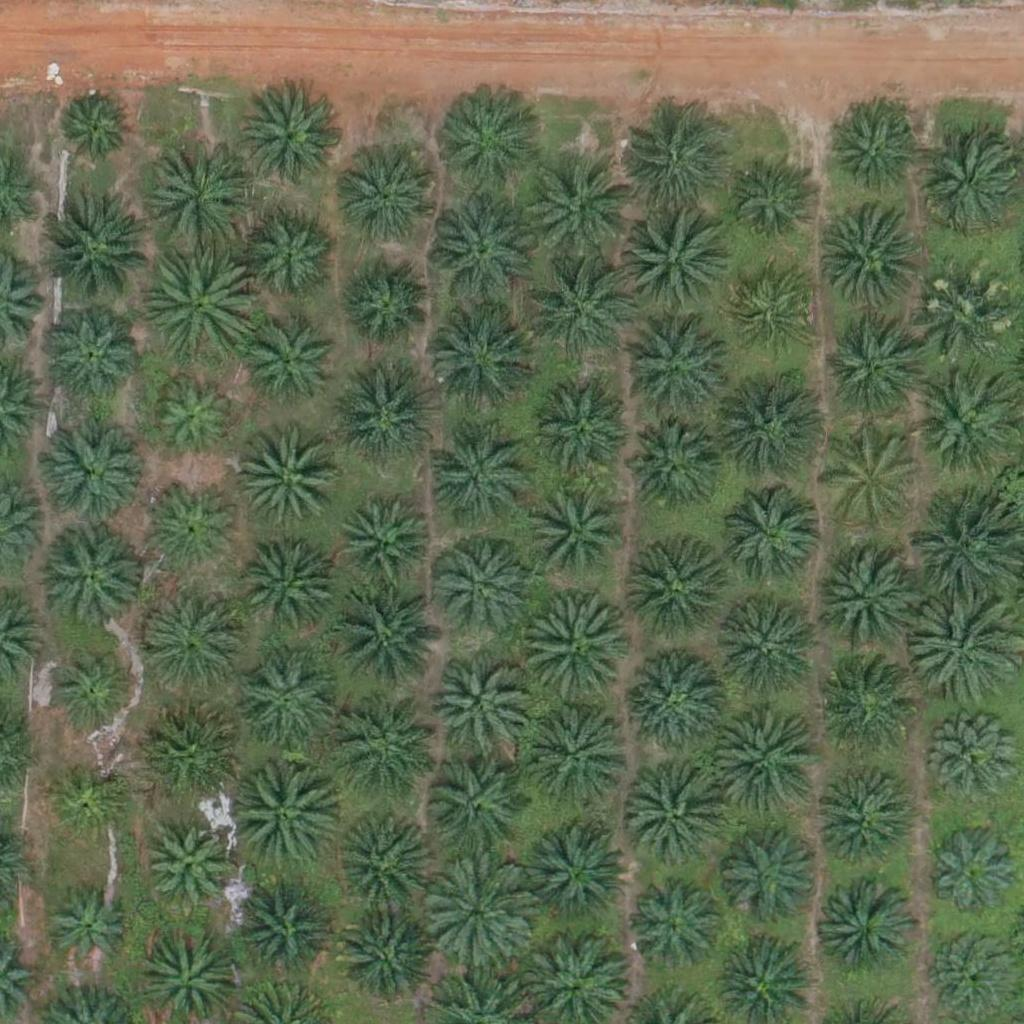Kelapa_Sawit: (38, 200, 151, 314), (420, 299, 533, 413), (148, 149, 261, 262), (220, 756, 333, 869), (419, 194, 532, 307), (519, 594, 632, 707), (521, 149, 634, 262), (615, 205, 728, 318), (711, 701, 824, 814), (148, 252, 260, 366), (427, 411, 539, 525), (717, 591, 829, 705), (910, 590, 1022, 704), (910, 498, 1022, 612), (140, 583, 252, 696), (329, 583, 441, 696), (433, 85, 545, 198), (420, 855, 532, 968), (521, 698, 633, 811), (524, 253, 636, 366), (614, 112, 726, 225), (721, 373, 833, 486), (820, 540, 932, 653), (40, 526, 140, 627), (152, 702, 252, 803), (240, 92, 340, 193), (235, 437, 335, 538), (234, 649, 334, 750), (225, 878, 325, 979), (328, 809, 428, 910), (338, 709, 438, 810), (334, 364, 434, 465), (338, 143, 438, 244), (432, 536, 532, 637), (429, 652, 529, 753), (527, 817, 627, 918), (529, 379, 629, 480), (528, 483, 628, 584), (625, 318, 725, 419), (622, 540, 722, 641), (628, 648, 728, 749), (627, 773, 727, 874), (720, 825, 820, 926), (727, 484, 827, 585), (821, 206, 921, 307), (818, 430, 918, 531), (813, 660, 913, 761), (817, 775, 917, 876), (818, 883, 918, 984), (918, 130, 1018, 231), (915, 278, 1015, 379), (40, 303, 140, 403), (42, 424, 142, 524), (240, 535, 340, 635), (422, 759, 522, 859), (622, 418, 722, 518), (820, 321, 920, 421), (916, 377, 1016, 477), (329, 906, 429, 1006), (931, 929, 1019, 1018), (46, 754, 134, 842), (46, 641, 134, 729), (141, 822, 229, 910), (155, 374, 243, 462), (729, 266, 817, 354), (834, 109, 922, 197), (41, 886, 128, 974), (150, 485, 237, 573), (244, 213, 331, 301), (248, 320, 335, 408), (339, 494, 426, 582), (342, 255, 429, 343), (630, 882, 717, 970), (727, 158, 814, 246), (933, 723, 1020, 811), (58, 93, 133, 168)
